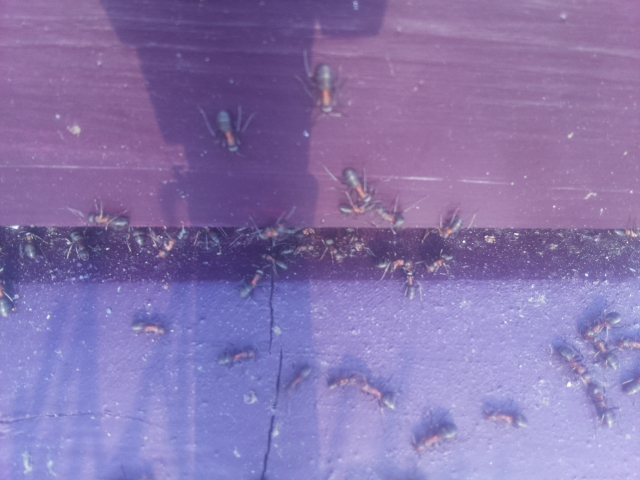ant: (334, 163, 413, 232), (407, 416, 462, 460), (579, 301, 628, 350), (333, 368, 393, 408), (477, 400, 533, 435), (303, 63, 341, 114), (392, 252, 424, 312), (77, 207, 137, 236), (233, 263, 272, 305), (422, 211, 471, 244), (212, 106, 244, 155), (283, 361, 317, 401), (216, 343, 259, 371), (66, 225, 93, 264), (16, 226, 42, 264), (125, 320, 171, 336)
